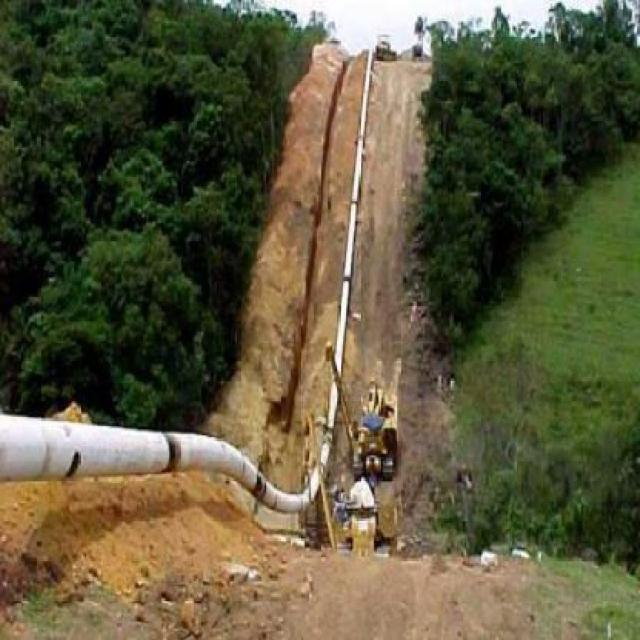gas: (2, 46, 377, 515)
